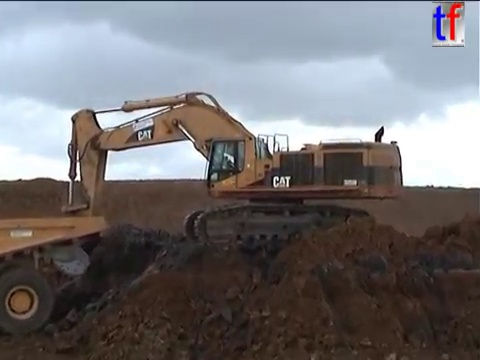excavator: (46, 89, 406, 278)
truck: (1, 212, 107, 336)
